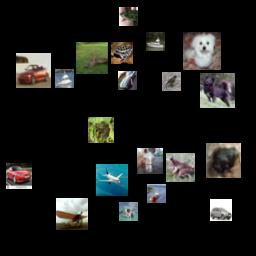airplane: (56, 198, 88, 230), (96, 164, 128, 196)
automobile: (16, 53, 51, 88), (6, 163, 32, 189), (210, 199, 232, 221), (118, 71, 137, 90)
bird: (162, 72, 181, 91)
deer: (76, 42, 108, 74)
dog: (183, 32, 221, 70), (200, 73, 235, 108)
frog: (206, 143, 241, 178), (166, 153, 195, 182), (88, 117, 114, 143), (111, 42, 133, 64), (119, 7, 138, 26)
ship: (55, 69, 74, 88), (146, 32, 165, 51), (119, 202, 138, 221), (147, 184, 166, 203)
